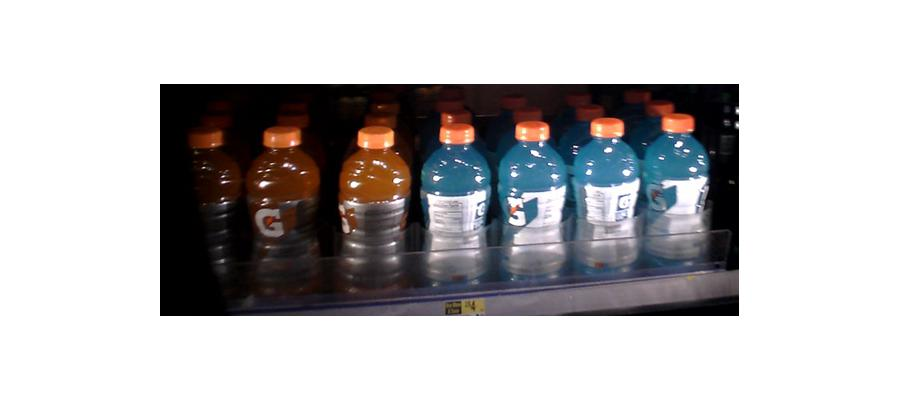bottle: (338, 123, 411, 298), (250, 121, 317, 301), (421, 122, 490, 293), (499, 120, 568, 288), (573, 120, 640, 277), (645, 113, 707, 269), (187, 134, 242, 299)
